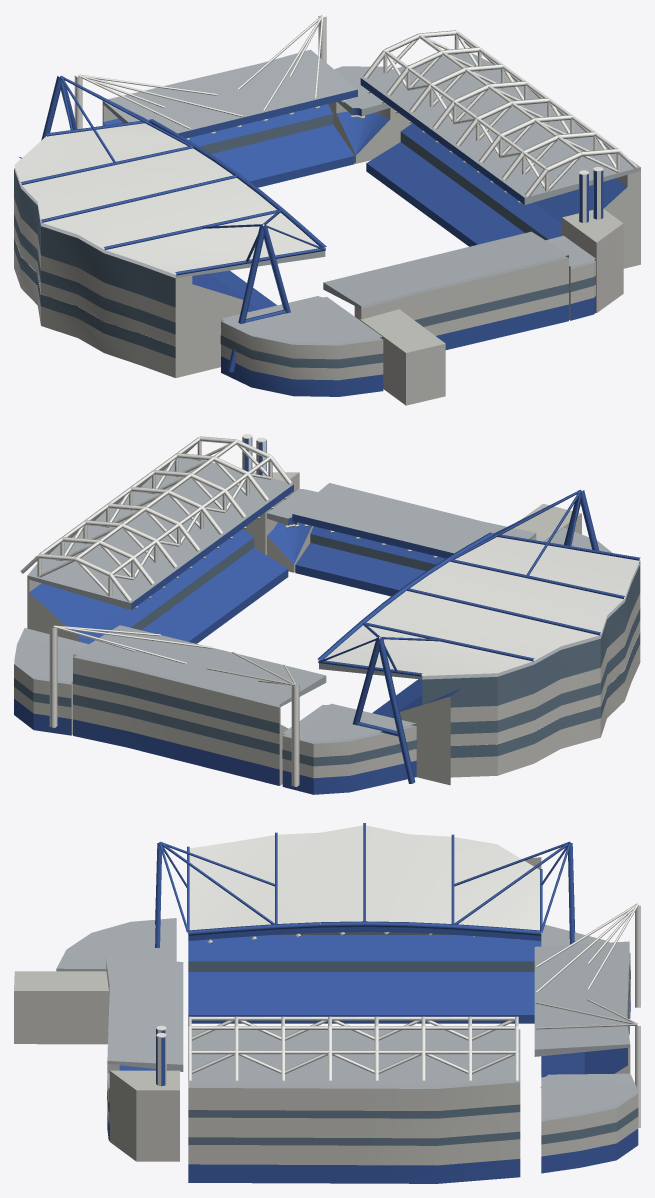
The model's file is london-stamford-bridge.glb.
3 renders of one model, top to bottom at view 1: azimuth 30°, elevation 25°; view 2: azimuth 150°, elevation 25°; view 3: azimuth 270°, elevation 25°, orthographic. The views are drawn at different scales.
Parts seen in each view (by area): view 1: Stamford Bridge; view 2: Stamford Bridge; view 3: Stamford Bridge.
Part boxes in pixels (x1,y1,x2,y2): Stamford Bridge: [14, 15, 640, 405]; Stamford Bridge: [14, 434, 640, 794]; Stamford Bridge: [14, 823, 640, 1183].
Bounding box in the file's own units: 180 × 48.87 × 188.
